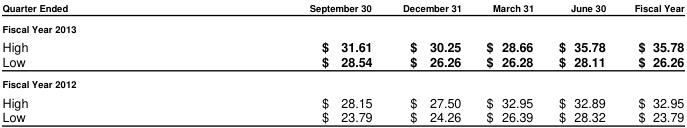table: (1, 1, 683, 125)
table column: (187, 1, 386, 125), (1, 1, 187, 125), (386, 1, 473, 125), (545, 1, 619, 125), (473, 1, 545, 125), (619, 1, 683, 125)
table column header: (1, 1, 683, 18)
table projected row header: (1, 18, 683, 36), (1, 73, 683, 91)
table row: (1, 53, 683, 73), (1, 18, 683, 36), (1, 73, 683, 91), (1, 91, 683, 109), (1, 1, 683, 18), (1, 36, 683, 53), (1, 109, 683, 125)
